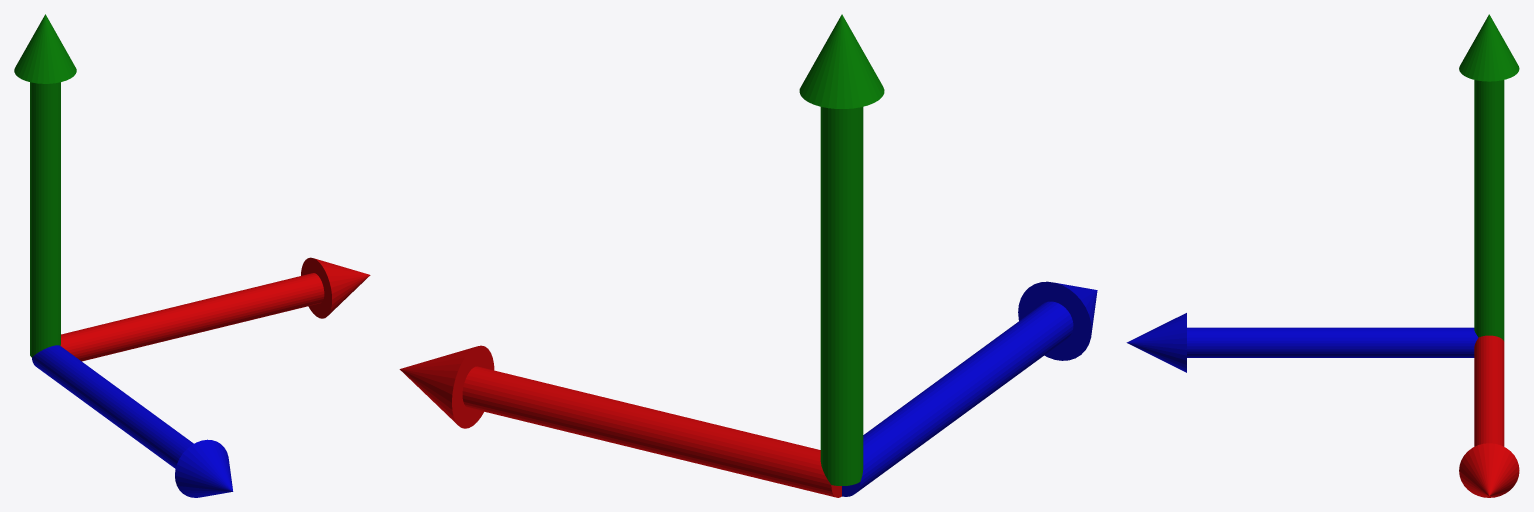
The model's file is axes.obj.
3 views of the same model, side by side, from view 1: azimuth 30°, elevation 25°; view 2: azimuth 150°, elevation 25°; view 3: azimuth 270°, elevation 25° (orthographic). The views are drawn at different scales.
Visible parts, largest first — view 1: X, Y, Z, Arrow_Cone.002, Arrow.002_Cone.001, Arrow.001_Cone; view 2: Y, X, Z, Arrow.002_Cone.001, Arrow.001_Cone, Arrow_Cone.002; view 3: Z, Y, X, Arrow.001_Cone, Arrow.002_Cone.001, Arrow_Cone.002.
Boxes of the visible parts, x1=… form: X: x1=60, y1=273, x2=324, y2=361; Y: x1=30, y1=82, x2=60, y2=357; Z: x1=32, y1=345, x2=193, y2=468; Arrow_Cone.002: x1=175, y1=439, x2=233, y2=497; Arrow.002_Cone.001: x1=14, y1=14, x2=76, y2=83; Arrow.001_Cone: x1=301, y1=257, x2=370, y2=318; Y: x1=820, y1=107, x2=863, y2=485; X: x1=462, y1=366, x2=841, y2=497; Z: x1=842, y1=301, x2=1073, y2=496; Arrow.002_Cone.001: x1=799, y1=14, x2=884, y2=108; Arrow.001_Cone: x1=399, y1=345, x2=494, y2=428; Arrow_Cone.002: x1=1018, y1=281, x2=1097, y2=360; Z: x1=1187, y1=327, x2=1478, y2=357; Y: x1=1474, y1=80, x2=1504, y2=341; X: x1=1474, y1=335, x2=1504, y2=446; Arrow.001_Cone: x1=1459, y1=443, x2=1519, y2=497; Arrow.002_Cone.001: x1=1459, y1=14, x2=1519, y2=81; Arrow_Cone.002: x1=1126, y1=313, x2=1186, y2=372.
Bounding box in the file's own units: 2.6 × 2.6 × 2.6.
